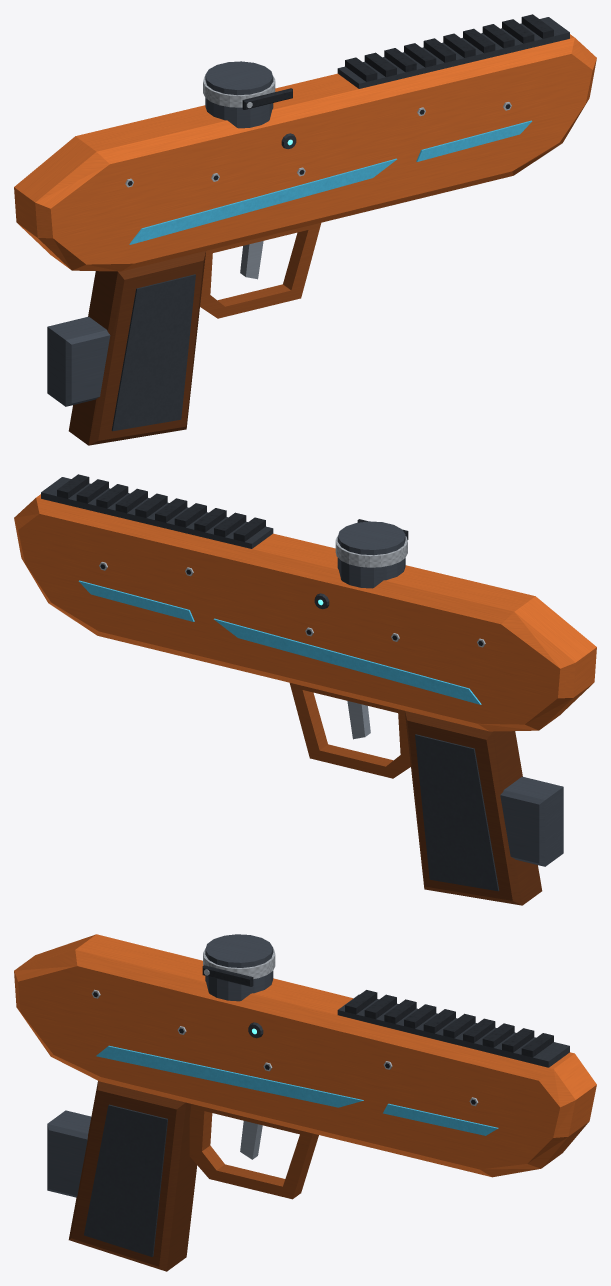
The model's file is raptor_v2.glb.
The picture shows the model from 3 angles, top to bottom: view 1: azimuth 30°, elevation 25°; view 2: azimuth 150°, elevation 25°; view 3: azimuth 330°, elevation 25°; orthographic projection.
Parts seen in each view (by area): view 1: body; view 2: body; view 3: body.
Part boxes in pixels (box(x1,y1,x2,y2)): body: box(14, 14, 596, 445); body: box(14, 474, 596, 905); body: box(14, 934, 596, 1271).
Size of the model in its own units: 0.458 by 0.258 by 0.0566.
Materials: 12 (11 with a texture image).
